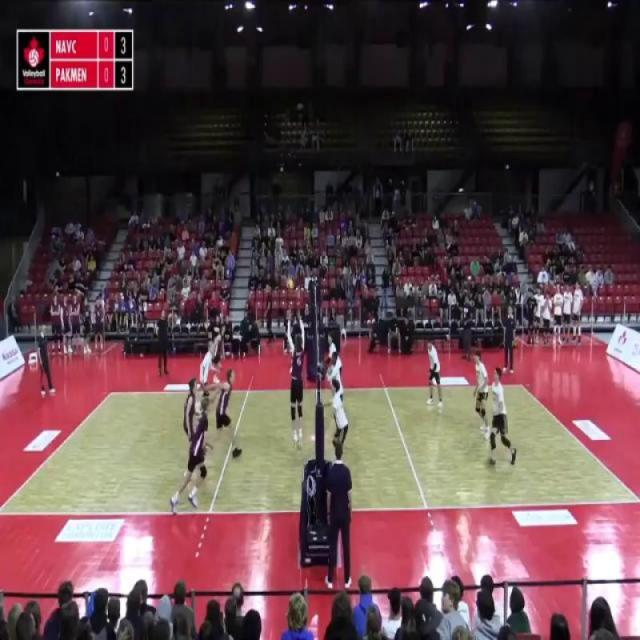volleyball: (286, 274, 295, 293)
